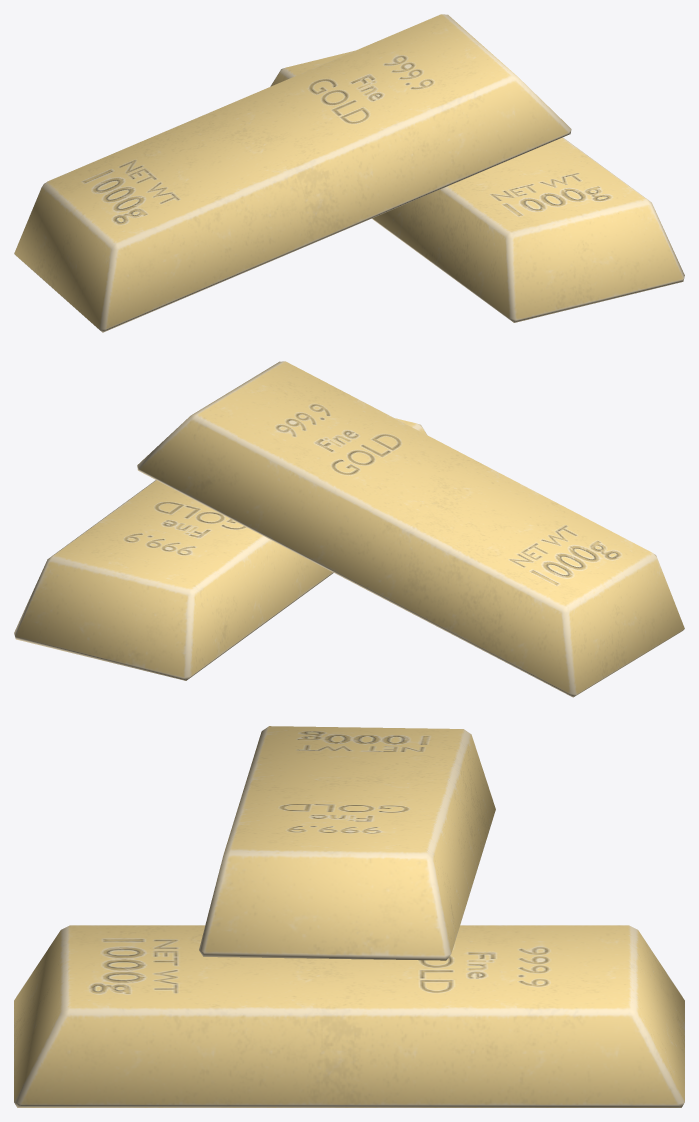
File: gold-bar.glb
3 views of the same model, one above another, from view 1: azimuth 30°, elevation 25°; view 2: azimuth 150°, elevation 25°; view 3: azimuth 270°, elevation 25° (orthographic). The views are drawn at different scales.
Visible parts, largest first — view 1: Gold Bar_GoldBar_0; view 2: Gold Bar_GoldBar_0; view 3: Gold Bar_GoldBar_0.
Boxes of the visible parts, x1,y1,x2,y2 form: Gold Bar_GoldBar_0: (14, 14, 684, 332); Gold Bar_GoldBar_0: (14, 361, 684, 697); Gold Bar_GoldBar_0: (14, 726, 684, 1107).
Bounding box in the file's own units: 0.5783 × 0.1866 × 0.5453.
1 material, 1 textured.
